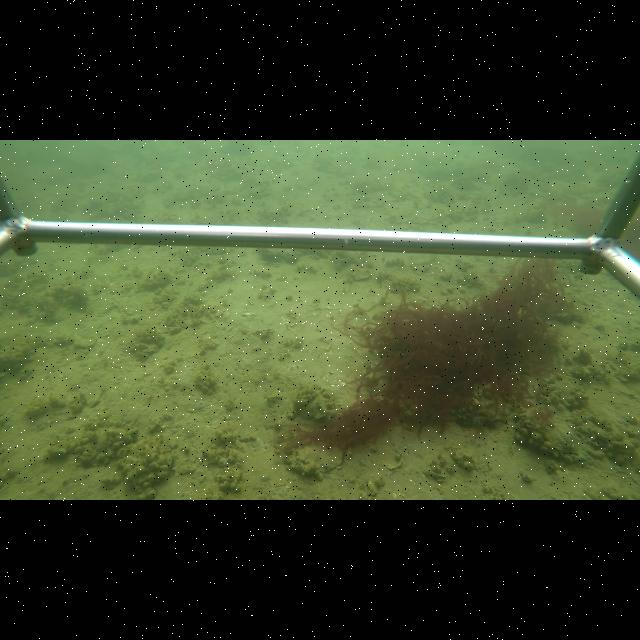Oyster-Closed: (515, 408, 599, 462), (67, 332, 97, 350)
